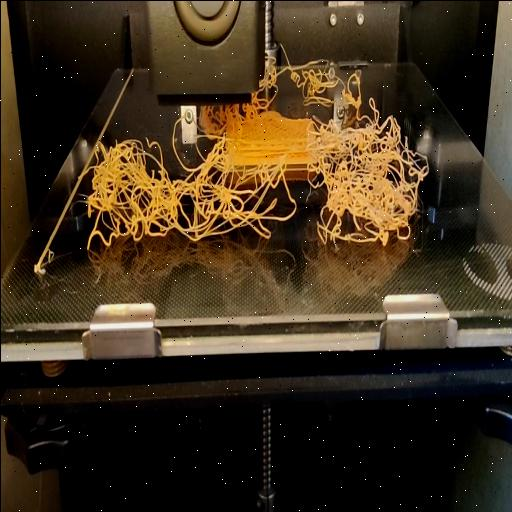spaghetti: (80, 102, 434, 252), (262, 32, 362, 102)
